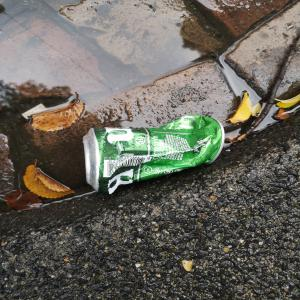Can: (84, 114, 228, 198)
